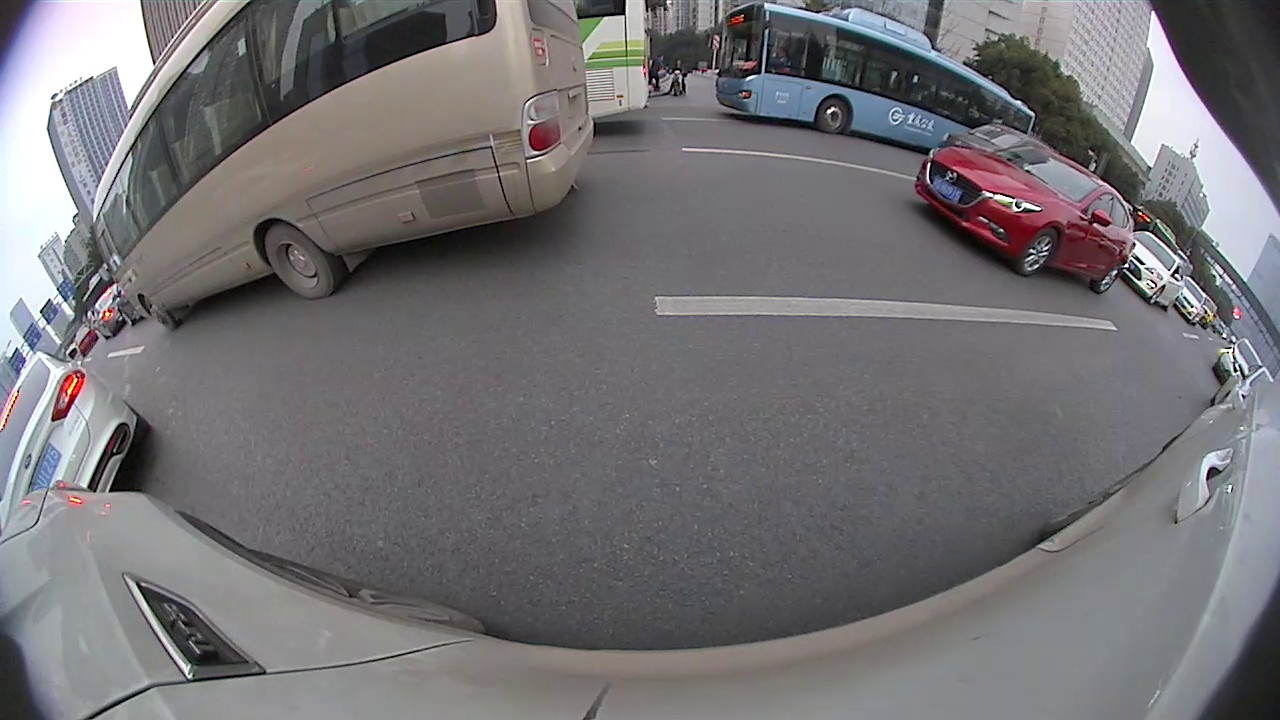bus: (91, 1, 594, 334), (717, 5, 1038, 145), (578, 2, 649, 121)
car: (913, 145, 1133, 293), (1, 348, 154, 539), (1112, 234, 1179, 312)
front: (1021, 228, 1060, 277), (815, 96, 852, 136), (139, 294, 176, 329)
rear: (263, 223, 338, 303), (1098, 262, 1124, 294), (1147, 284, 1166, 305)
